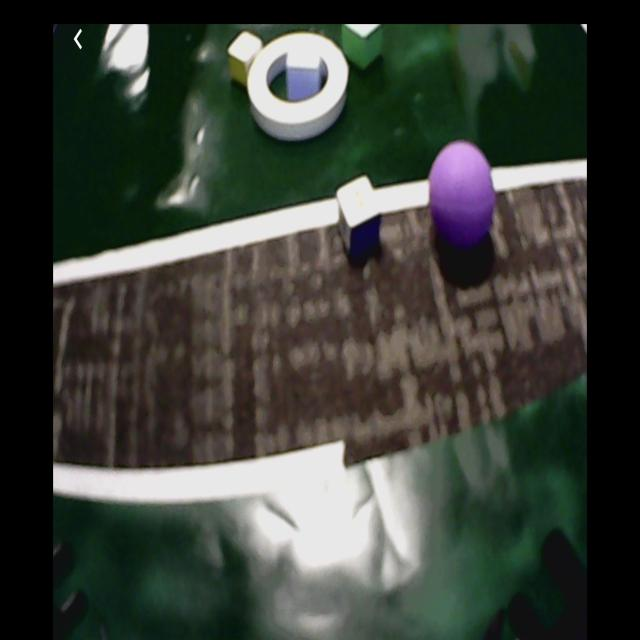ball: (430, 141, 495, 244)
